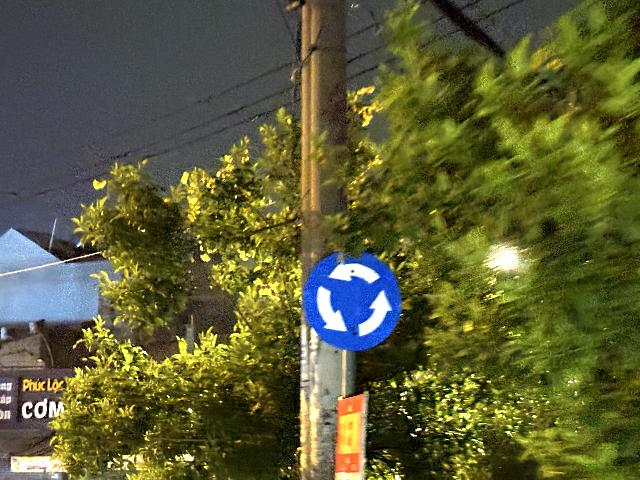noi-giao-nhau-chay-theo-vong-xuyen: (302, 253, 402, 350)
